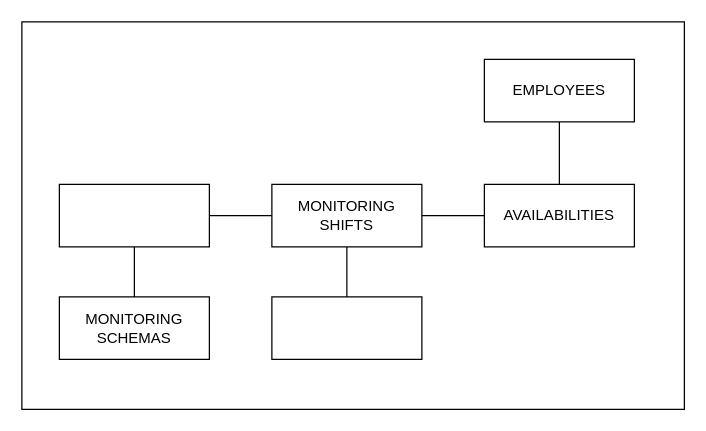
Some shapes in this 706 by 431 pixel diagram are drawn without their labels. Each missing label, with the centre of its shape:
SERVICES: the point at 133,215
WEEKS: the point at 346,327
